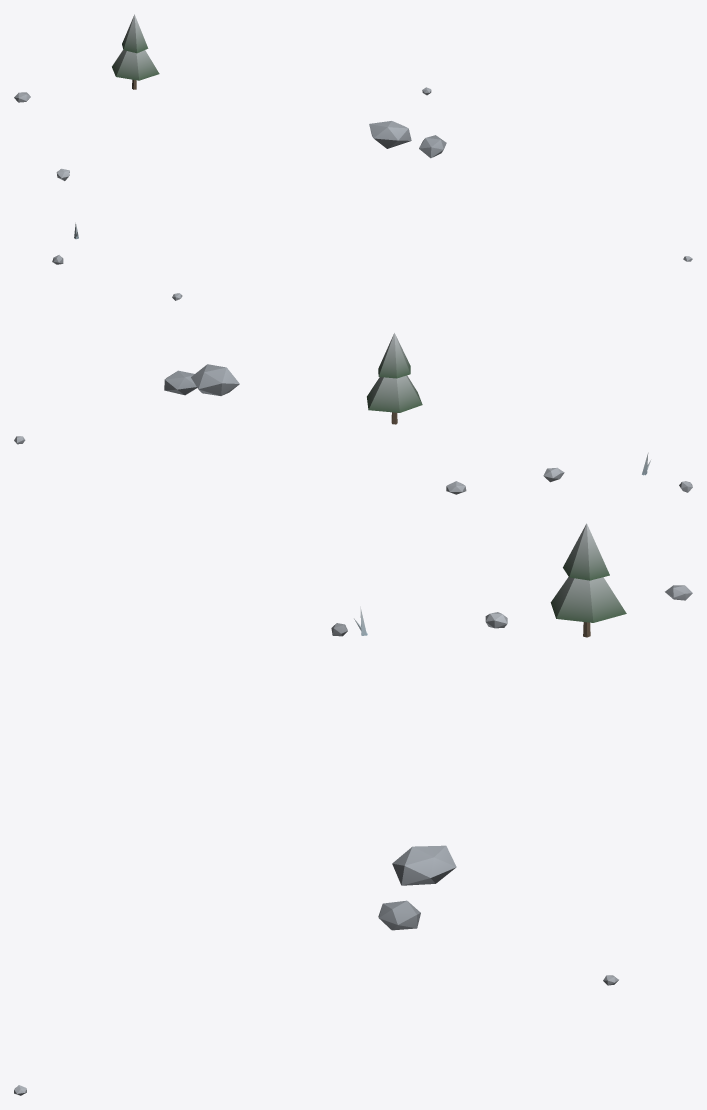
Rendered from frost_land_scatter_c16_12_lod1.glb.
3 views of the same model, one above another, from view 1: azimuth 30°, elevation 25°; view 2: azimuth 150°, elevation 25°; view 3: azimuth 270°, elevation 25° (orthographic). The views are drawn at different scales.
Visible parts, largest first — view 1: frost_land_scatter_c16_12_lod1; view 2: frost_land_scatter_c16_12_lod1; view 3: frost_land_scatter_c16_12_lod1.
Boxes of the visible parts, x1=… form: frost_land_scatter_c16_12_lod1: x1=14, y1=14, x2=692, y2=264; frost_land_scatter_c16_12_lod1: x1=14, y1=293, x2=692, y2=494; frost_land_scatter_c16_12_lod1: x1=14, y1=523, x2=692, y2=1095.
Size of the model in its own units: 65.19 by 23.29 by 47.55.
